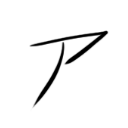a: (24, 28, 109, 111)
